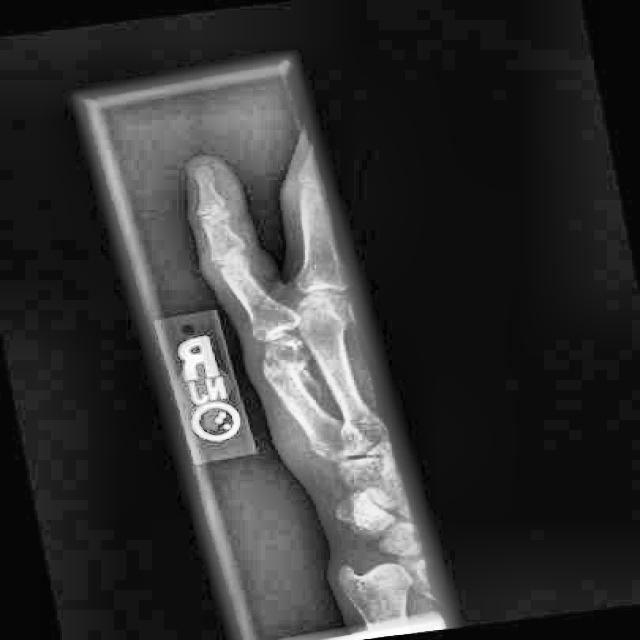fingers positive: (254, 341, 327, 403)
